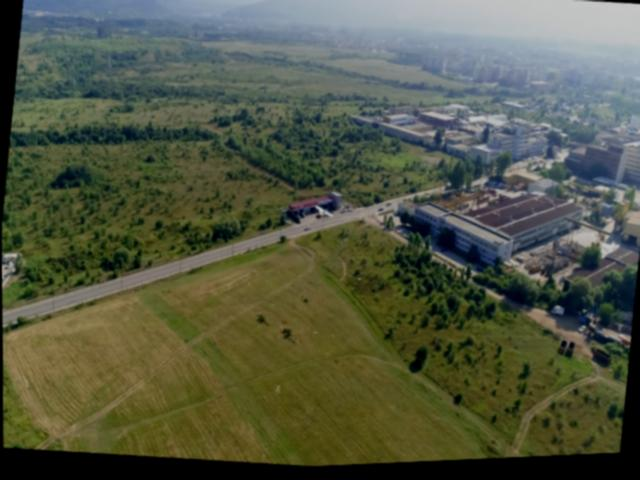plane: (314, 207, 334, 221)
